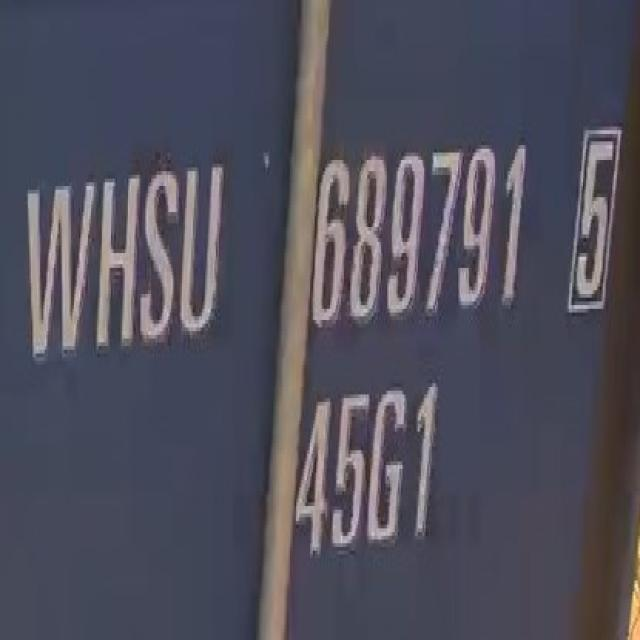dv: (555, 114, 626, 333)
owner: (12, 136, 234, 377)
serial: (302, 131, 536, 350)
size: (290, 370, 449, 577)
